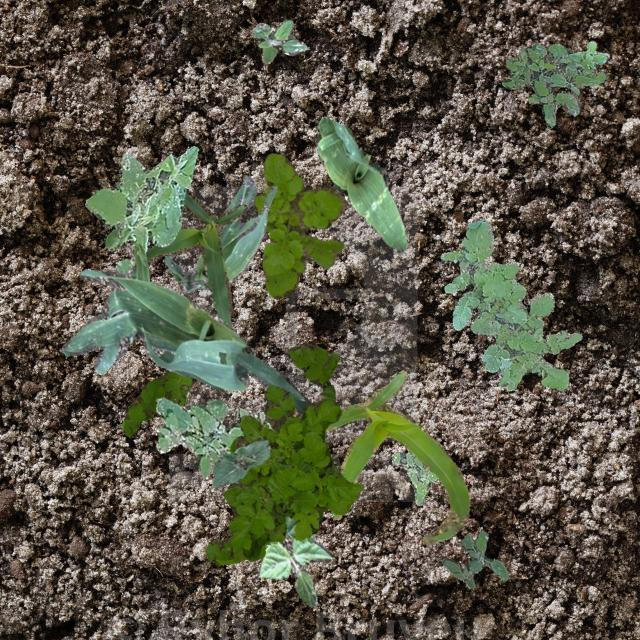crop: (61, 242, 310, 412), (324, 370, 468, 544), (146, 188, 247, 328), (162, 175, 276, 292), (314, 116, 406, 252), (258, 514, 330, 606), (212, 438, 268, 487)
weed: (205, 342, 362, 564), (440, 220, 580, 390), (84, 144, 198, 274), (252, 152, 346, 298), (500, 39, 608, 128), (154, 397, 270, 478), (120, 368, 196, 436), (440, 530, 508, 588), (391, 450, 436, 504), (252, 18, 306, 62)
